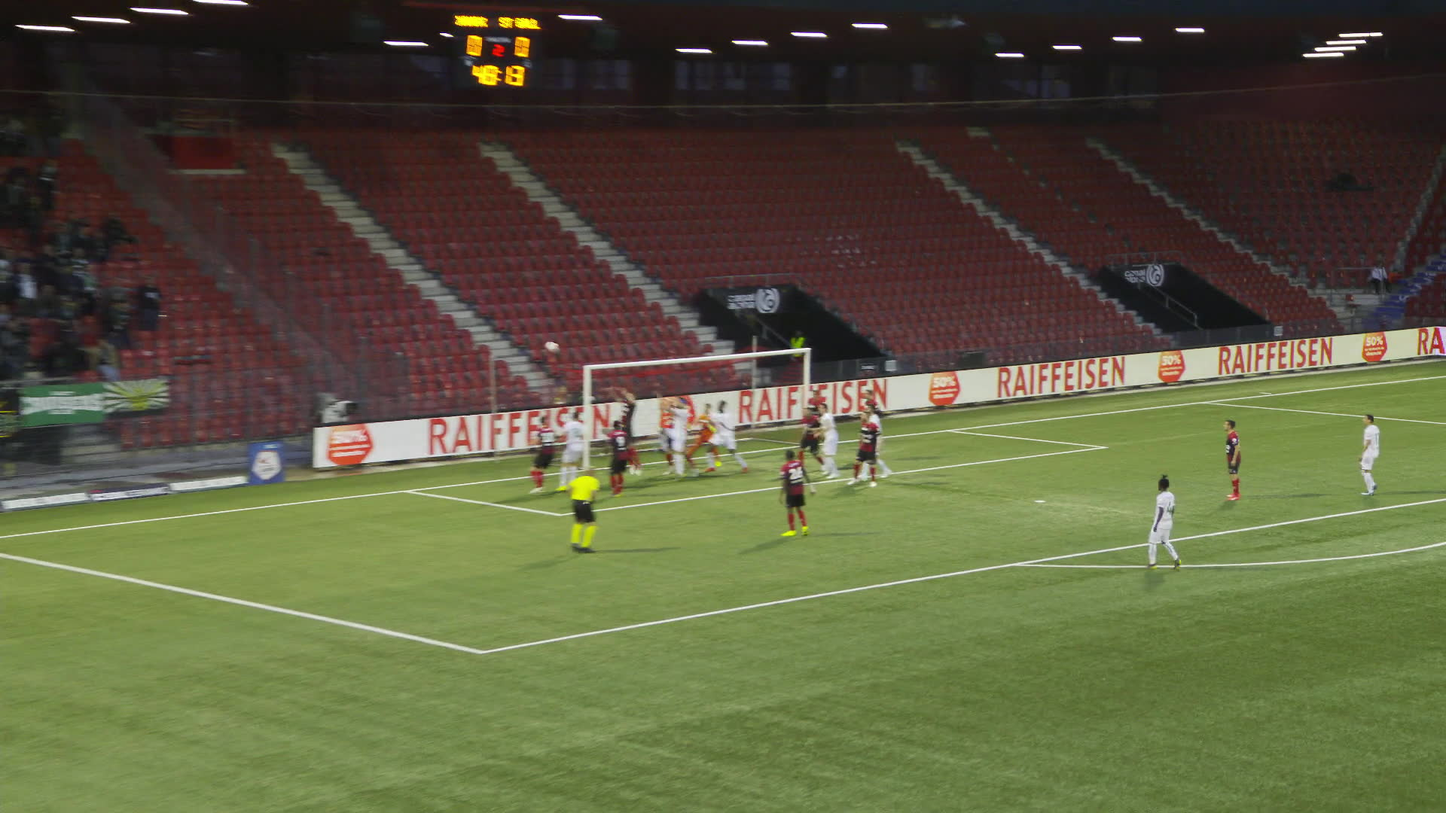ball: (544, 341, 559, 352)
player: (659, 397, 700, 477), (781, 449, 819, 535), (1149, 473, 1181, 568), (612, 385, 645, 476), (707, 399, 749, 470), (848, 411, 885, 486), (859, 402, 893, 479), (530, 416, 563, 492), (560, 411, 590, 491), (687, 401, 724, 464), (664, 400, 694, 477), (858, 388, 888, 463), (813, 403, 842, 478), (606, 420, 634, 496), (1360, 414, 1382, 495), (801, 404, 827, 467), (1225, 419, 1243, 499), (808, 389, 826, 446)
referee: (569, 466, 605, 552)
